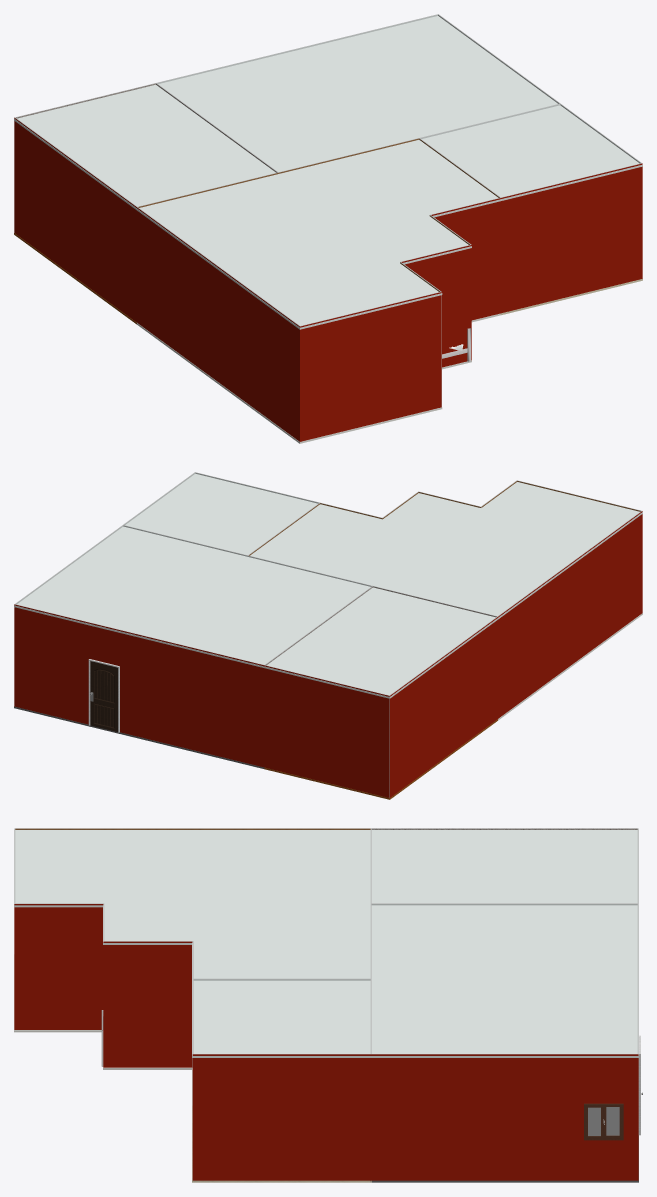
The model's file is ProcTHOR-Train-151.glb.
The picture shows the model from 3 angles, top to bottom: view 1: azimuth 30°, elevation 25°; view 2: azimuth 150°, elevation 25°; view 3: azimuth 270°, elevation 25°; orthographic projection. The views are drawn at different scales.
Parts seen in each view (by area): view 1: Ceiling#room|4|c, Ceiling#room|6|c, WallInside#wall|exterior|12.32|6.16|12.32|14.37, Ceiling#room|7|c, WallInside#wall|exterior|8.21|14.37|12.32|14.37, WallInside#wall|exterior|0.00|10.27|4.11|10.27, WallInside#wall|exterior|12.32|0.00|12.32|6.16, Ceiling#room|5|c, WallInside#wall|exterior|4.11|10.27|6.16|10.27, WallInside#wall|exterior|6.16|12.32|8.21|12.32, Floor#room|4|f, WallInside#wall|6|0.00|0.00|8.21|0.00; view 2: Ceiling#room|4|c, Ceiling#room|6|c, WallInside#wall|exterior|0.00|0.00|8.21|0.00, WallInside#wall|exterior|12.32|6.16|12.32|14.37, Ceiling#room|7|c, WallInside#wall|exterior|8.21|0.00|12.32|0.00, WallInside#wall|exterior|12.32|0.00|12.32|6.16, Ceiling#room|5|c, Doorway_9, Floor#room|6|f, Floor#room|7|f; view 3: Ceiling#room|4|c, Ceiling#room|6|c, WallInside#wall|exterior|0.00|0.00|0.00|6.16, WallInside#wall|exterior|0.00|6.16|0.00|10.27, Ceiling#room|7|c, Ceiling#room|5|c, WallInside#wall|exterior|8.21|12.32|8.21|14.37, WallInside#wall|exterior|6.16|10.27|6.16|12.32, Floor#room|6|f, Window_Slider_36x36, WallInside#wall|6|8.21|0.00|8.21|6.16, WallInside#wall|4|12.32|6.16|12.32|14.37 (+3 smaller).
Boxes of the visible parts, left/top/right/bottom form: Ceiling#room|4|c: left=136, top=140, right=500, bottom=329; Ceiling#room|6|c: left=156, top=16, right=558, bottom=174; WallInside#wall|exterior|12.32|6.16|12.32|14.37: left=136, top=207, right=299, bottom=441; Ceiling#room|7|c: left=14, top=85, right=275, bottom=210; WallInside#wall|exterior|8.21|14.37|12.32|14.37: left=300, top=292, right=441, bottom=441; WallInside#wall|exterior|0.00|10.27|4.11|10.27: left=501, top=163, right=642, bottom=313; WallInside#wall|exterior|12.32|0.00|12.32|6.16: left=14, top=117, right=136, bottom=321; Ceiling#room|5|c: left=421, top=105, right=642, bottom=200; WallInside#wall|exterior|4.11|10.27|6.16|10.27: left=431, top=198, right=501, bottom=320; WallInside#wall|exterior|6.16|12.32|8.21|12.32: left=401, top=244, right=471, bottom=367; Floor#room|4|f: left=137, top=313, right=500, bottom=443; WallInside#wall|6|0.00|0.00|8.21|0.00: left=157, top=14, right=437, bottom=83; Ceiling#room|4|c: left=250, top=482, right=642, bottom=619; Ceiling#room|6|c: left=14, top=526, right=370, bottom=668; WallInside#wall|exterior|0.00|0.00|8.21|0.00: left=14, top=604, right=264, bottom=767; WallInside#wall|exterior|12.32|6.16|12.32|14.37: left=498, top=511, right=642, bottom=718; Ceiling#room|7|c: left=264, top=587, right=497, bottom=698; WallInside#wall|exterior|8.21|0.00|12.32|0.00: left=264, top=665, right=389, bottom=797; WallInside#wall|exterior|12.32|0.00|12.32|6.16: left=389, top=616, right=498, bottom=797; Ceiling#room|5|c: left=125, top=473, right=317, bottom=555; Doorway_9: left=88, top=659, right=119, bottom=732; Floor#room|6|f: left=14, top=706, right=264, bottom=768; Floor#room|7|f: left=264, top=719, right=497, bottom=799; Ceiling#room|4|c: left=14, top=829, right=371, bottom=980; Ceiling#room|6|c: left=370, top=905, right=638, bottom=1057; WallInside#wall|exterior|0.00|0.00|0.00|6.16: left=370, top=1054, right=638, bottom=1180; WallInside#wall|exterior|0.00|6.16|0.00|10.27: left=192, top=1054, right=371, bottom=1180; Ceiling#room|7|c: left=370, top=829, right=638, bottom=904; Ceiling#room|5|c: left=192, top=980, right=371, bottom=1057; WallInside#wall|exterior|8.21|12.32|8.21|14.37: left=14, top=903, right=103, bottom=1029; WallInside#wall|exterior|6.16|10.27|6.16|12.32: left=103, top=941, right=192, bottom=1067; Floor#room|6|f: left=370, top=1107, right=638, bottom=1182; Window_Slider_36x36: left=584, top=1103, right=623, bottom=1140; WallInside#wall|6|8.21|0.00|8.21|6.16: left=371, top=903, right=638, bottom=905; WallInside#wall|4|12.32|6.16|12.32|14.37: left=14, top=828, right=371, bottom=829.
Size of what is drawn, in the model's own units: 12.38 by 3.27 by 14.5.
287 materials, 125 textured.
